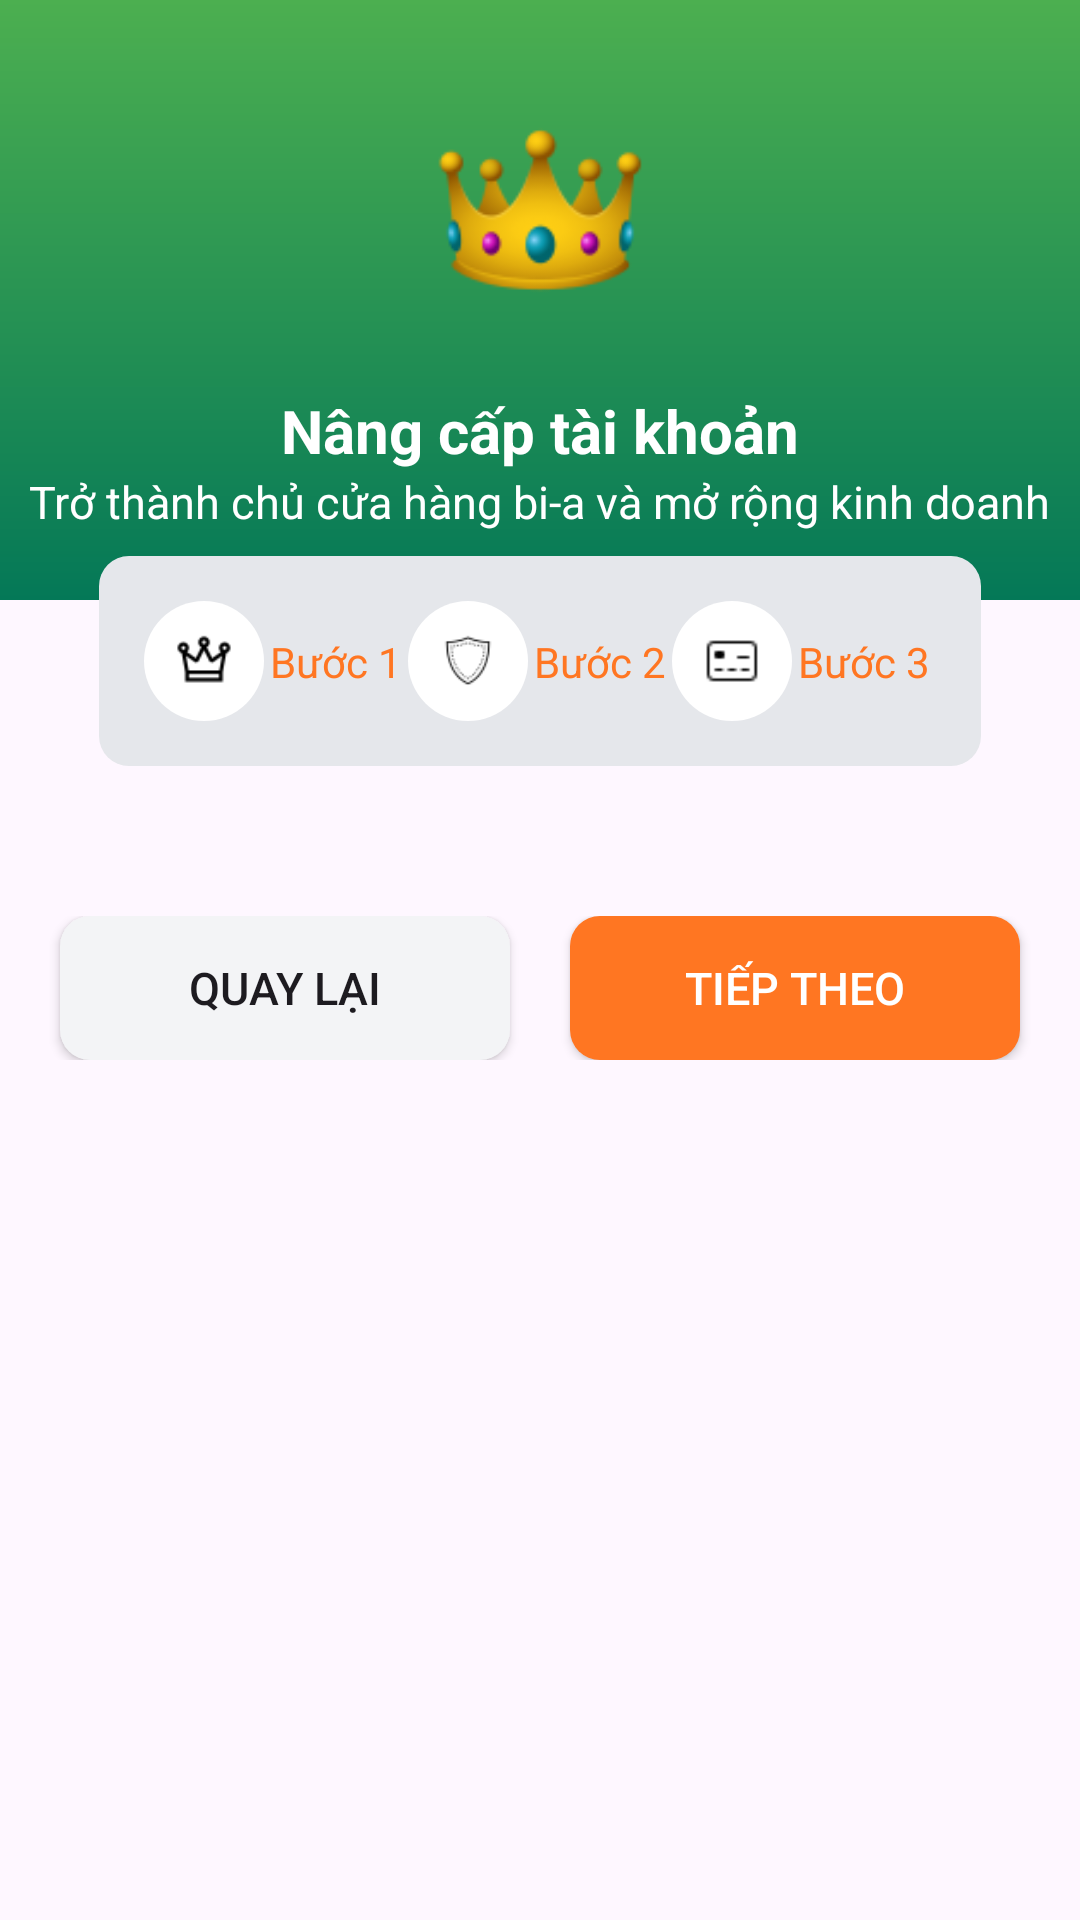

Screen size 1080 x 1920. Icon name, then its center in pixels as point (x, y):
card: point (732, 661)
crown: point (540, 190), point (204, 661)
shield: point (468, 661)
